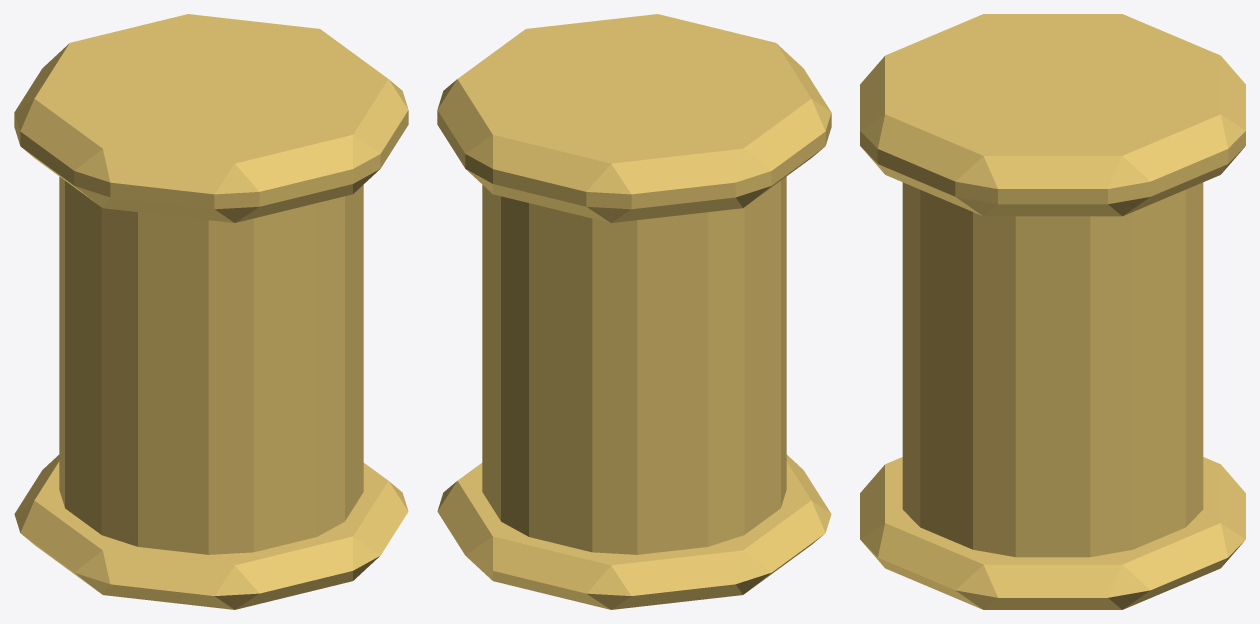
The model's file is SM_Bollard_0p5x0p6x0p5.glb.
3 renders of one model, left to right at view 1: azimuth 30°, elevation 25°; view 2: azimuth 150°, elevation 25°; view 3: azimuth 270°, elevation 25°, orthographic.
Visible parts, largest first — view 1: SM_Bollard_0p5x0p6x0p5; view 2: SM_Bollard_0p5x0p6x0p5; view 3: SM_Bollard_0p5x0p6x0p5.
Boxes of the visible parts, bbox=[...] form: SM_Bollard_0p5x0p6x0p5: bbox=[14, 14, 408, 609]; SM_Bollard_0p5x0p6x0p5: bbox=[437, 14, 831, 609]; SM_Bollard_0p5x0p6x0p5: bbox=[860, 14, 1245, 609].
Size of the model in its own units: 0.4619 by 0.6 by 0.4619.
